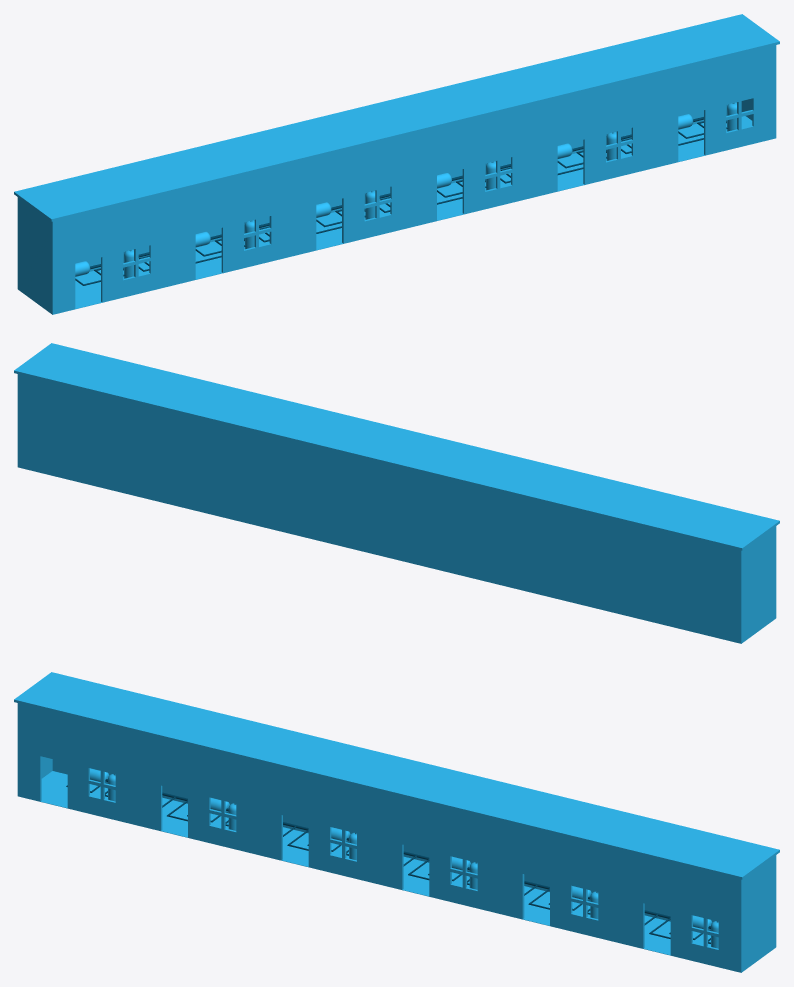
The model's file is jiayabeng-all.obj.
3 views of the same model, one above another, from view 1: azimuth 30°, elevation 25°; view 2: azimuth 150°, elevation 25°; view 3: azimuth 330°, elevation 25° (orthographic).
Parts seen in each view (by area): view 1: border, equipment, pipe; view 2: border; view 3: border, equipment, pipe.
Part boxes in pixels (bbox=[...]): border: bbox=[14, 14, 779, 314]; equipment: bbox=[75, 102, 736, 278]; pipe: bbox=[75, 117, 728, 285]; border: bbox=[14, 343, 779, 643]; border: bbox=[14, 672, 779, 972]; equipment: bbox=[90, 768, 718, 948]; pipe: bbox=[66, 779, 714, 947].
Size of the model in its own units: 604 by 77.06 by 54.
